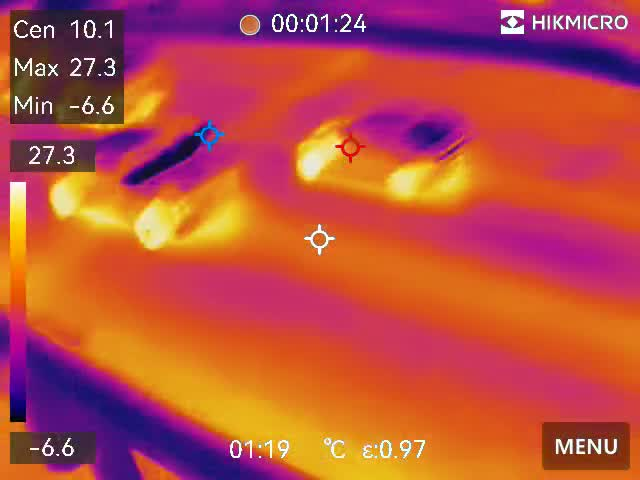lightTruck: (53, 135, 254, 243)
smallCar: (292, 98, 488, 202)
